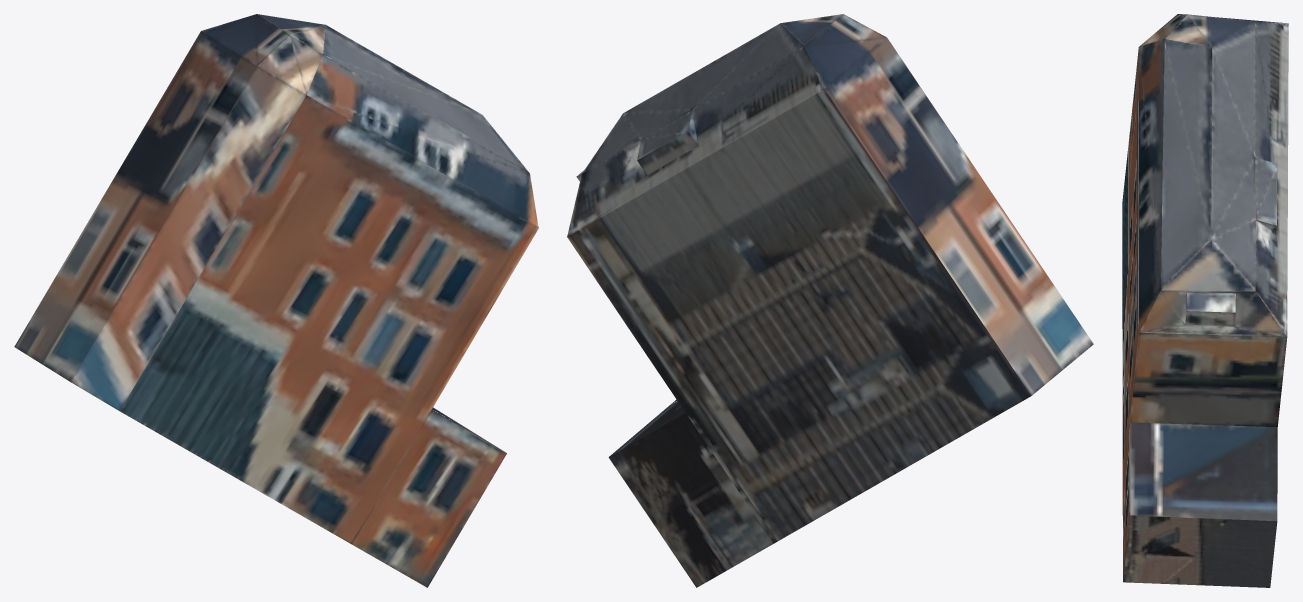
The picture shows the model from 3 angles, left to right: view 1: azimuth 30°, elevation 25°; view 2: azimuth 150°, elevation 25°; view 3: azimuth 270°, elevation 25°; orthographic projection. The views are drawn at different scales.
Parts seen in each view (by area): view 1: BAG_0599100000671717 (×7); view 2: BAG_0599100000671717 (×7); view 3: BAG_0599100000671717 (×9).
Part boxes in pixels (left/top/right/bottom): BAG_0599100000671717 (×7): left=14, top=14, right=538, bottom=587; BAG_0599100000671717 (×7): left=567, top=14, right=1093, bottom=587; BAG_0599100000671717 (×9): left=1122, top=14, right=1288, bottom=587.
Size of the model in its own units: 19.15 by 21.67 by 6.2.
2 materials, 1 textured.
